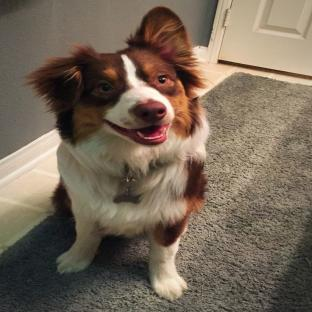Animal: (27, 6, 209, 300)
